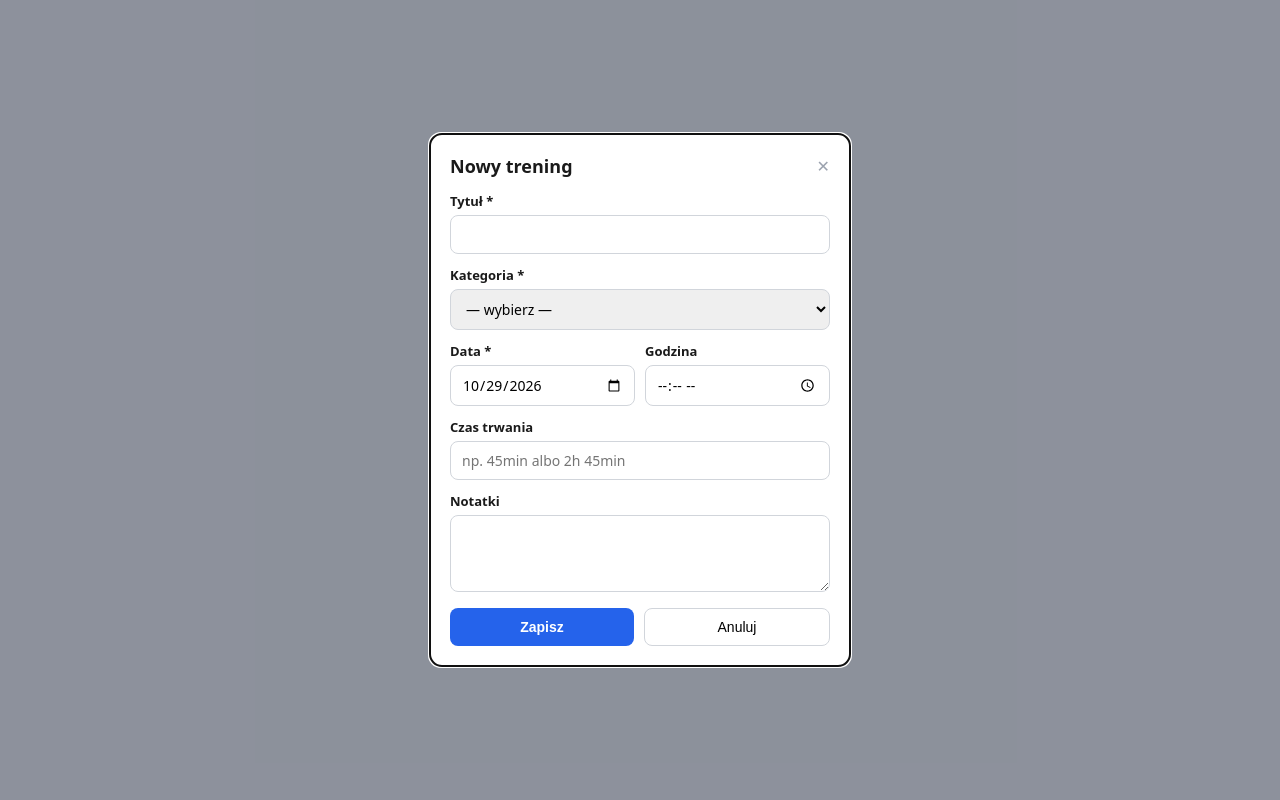
Test case: TrainingPlanForm › blokuje utworzenie planu z przeszłą datą
Type "Bieganie" into the field labelled "Tytuł *" at (640, 234), box [450,215,830,254]
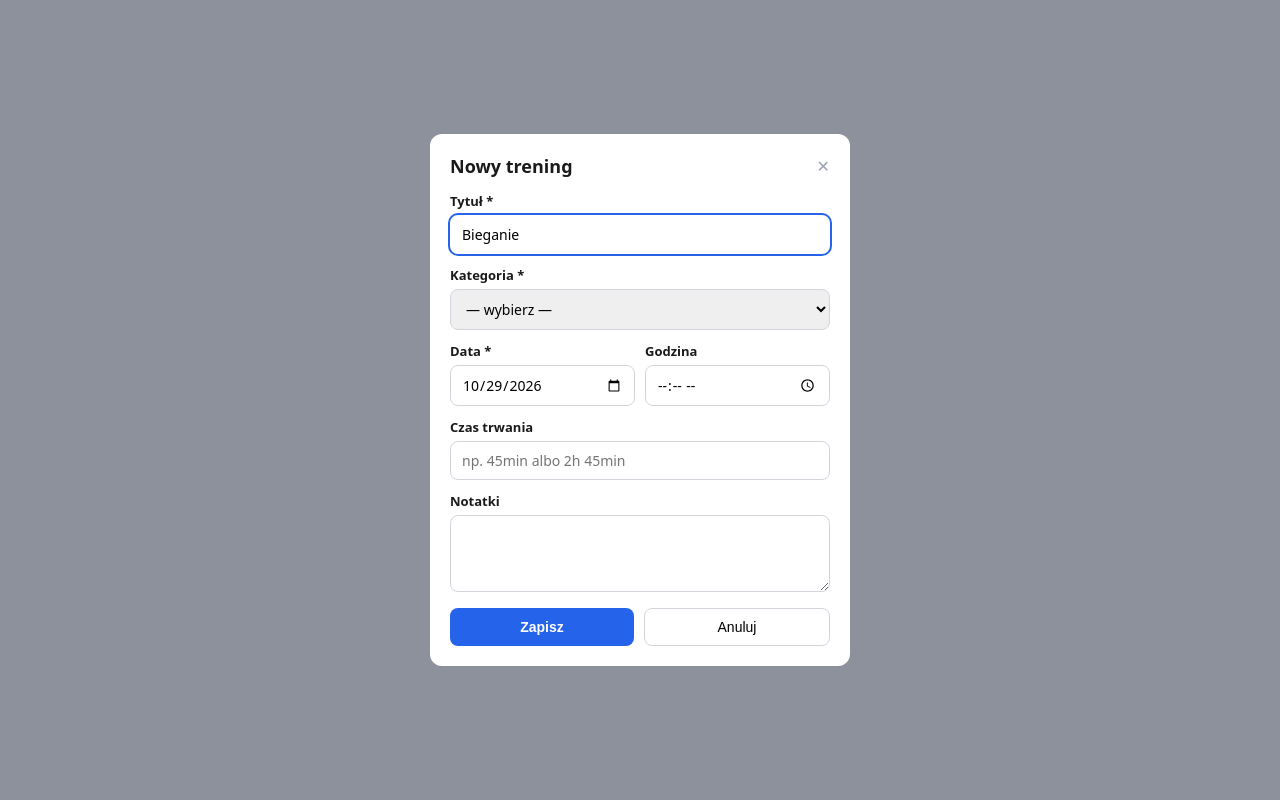
Select "Taniec" in the dropdown labelled "Kategoria *" at (640, 310), box [450,289,830,330]
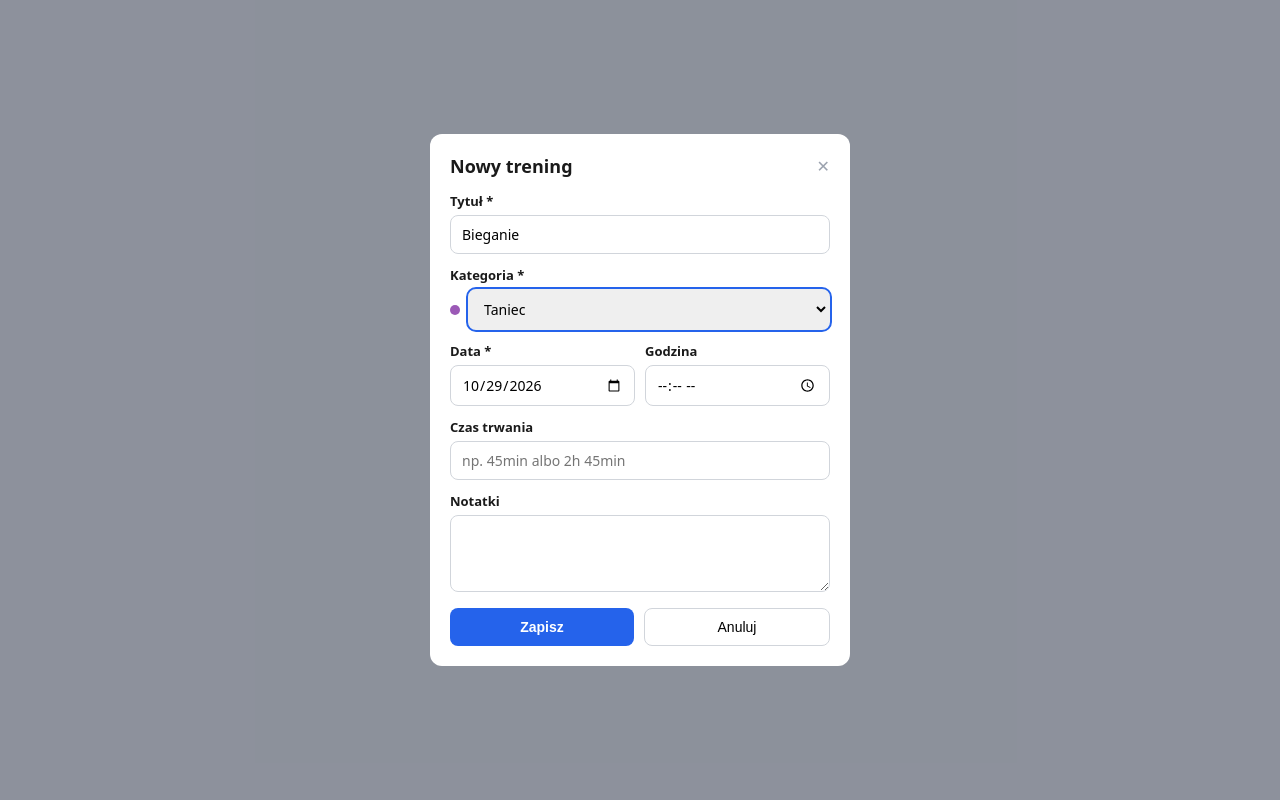
Click the button "Zapisz" at (542, 627), box [450,608,634,646]
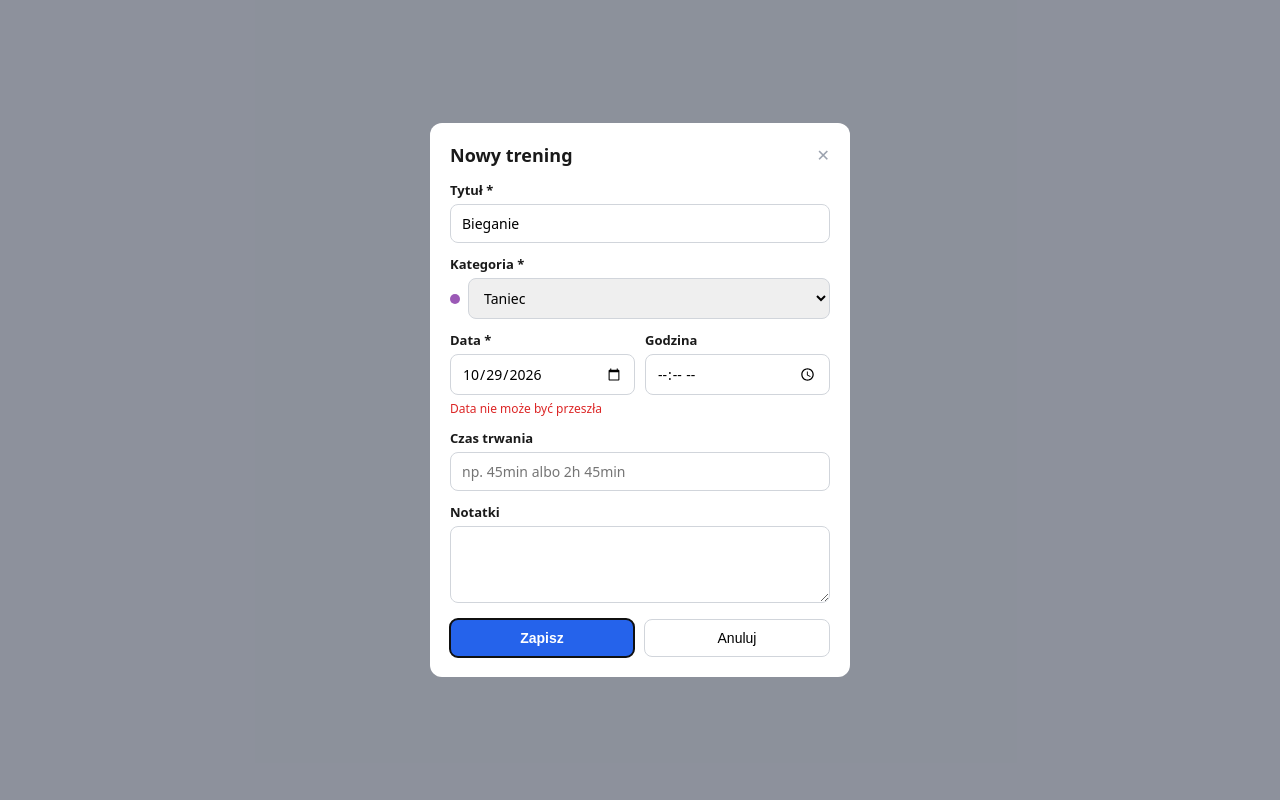
expect the text "Data nie może być przeszła" is shown: met, box [450,400,602,417]
